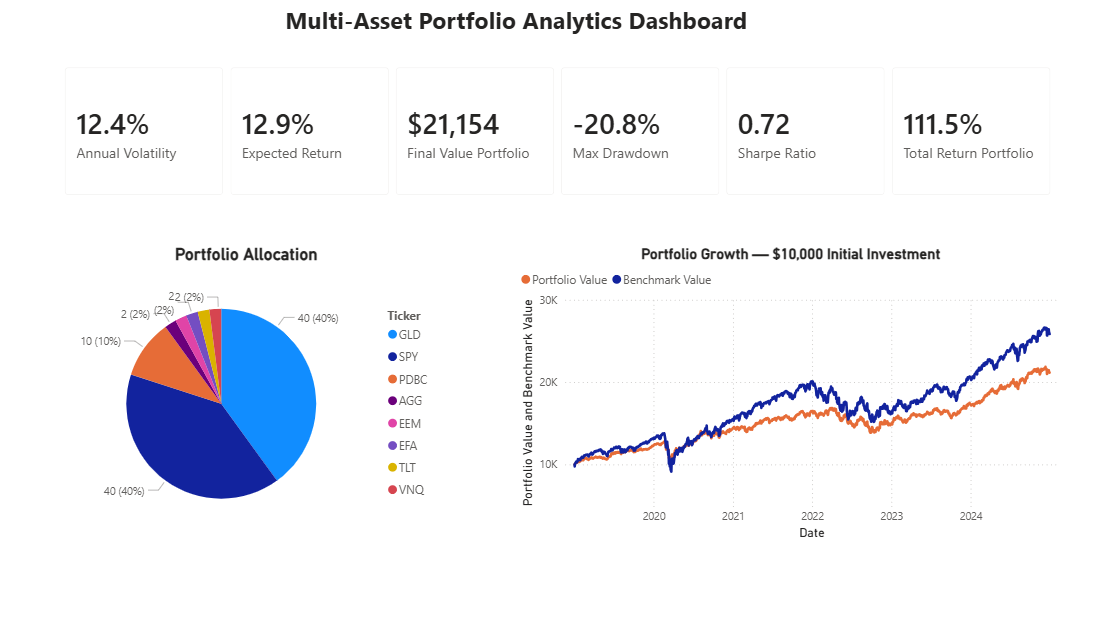

The page's visual inventory and layout, read from the dashboard file:
{"tool":"powerbi","page":{"name":"Portfolio Overview","canvas":[1280,720],"ordinal":0},"visuals":[{"type":"textbox","box":[10,290,280,280],"z":0},{"type":"textbox","box":[10,570,280,150],"z":4000},{"type":"textbox","box":[292.9,0,594.3,60],"z":5000},{"type":"cardVisual","fields":{"Data":["kpi_summary.Annual Volatility","kpi_summary.Expected Return","kpi_summary.Final Value Portfolio","kpi_summary.Max Drawdown","kpi_summary.Sharpe Ratio","kpi_summary.Total Return Portfolio"]},"box":[57.1,60,1160,180],"z":6000},{"type":"pieChart","title":"Portfolio Allocation","fields":{"Category":["portfolio_weights.Ticker"],"Y":["Sum(portfolio_weights.Weight_Pct)"]},"box":[59,279.9,446,341.7],"z":7000},{"type":"lineChart","title":"Portfolio Growth — $10,000 Initial Investment","fields":{"Y":["Avg(backtest_data.Portfolio_Value)","Avg(backtest_data.Benchmark_Value)"],"Category":["backtest_data.Date"]},"box":[589.8,280.3,627.7,341.6],"z":8000}]}

Visuals, with their boxes in screenshot pixels (x1, y1, x2, y2), scaled from the page's 1280x720 canvas onto the 1117x629 screenshot:
textbox: {"left": 9, "top": 253, "right": 253, "bottom": 498}
textbox: {"left": 9, "top": 498, "right": 253, "bottom": 628}
textbox: {"left": 256, "top": 0, "right": 774, "bottom": 52}
cardVisual - kpi_summary.Annual Volatility x kpi_summary.Expected Return: {"left": 50, "top": 52, "right": 1062, "bottom": 210}
"Portfolio Allocation" pieChart: {"left": 51, "top": 245, "right": 441, "bottom": 543}
"Portfolio Growth — $10,000 Initial Investment" lineChart: {"left": 515, "top": 245, "right": 1062, "bottom": 543}
